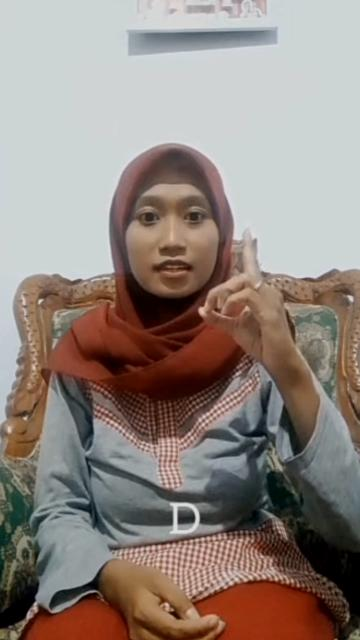D: (192, 224, 294, 372)
